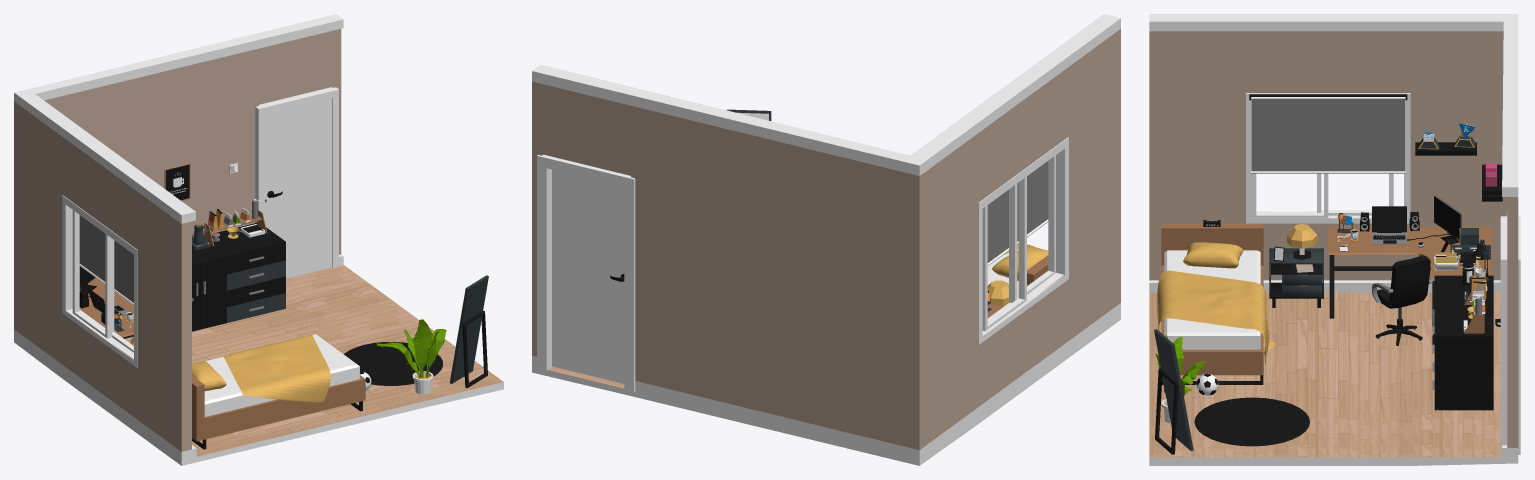
Rendered from Portfolio.glb.
3 views of the same model, side by side, from view 1: azimuth 30°, elevation 25°; view 2: azimuth 150°, elevation 25°; view 3: azimuth 270°, elevation 25° (orthographic). The views are drawn at different scales.
Parts seen in each view (by area): view 1: Room, Door, PC; view 2: Room, Door; view 3: Room, Chair, PC, Lamp02, Basket, Football Ball.
Boxes of the visible parts, x1,y1,x2,y2 form: Room: (14, 14, 503, 465); Door: (265, 98, 331, 278); PC: (79, 266, 127, 315); Room: (532, 14, 1120, 465); Door: (552, 169, 624, 383); Room: (1149, 14, 1520, 465); Chair: (1372, 255, 1431, 345); PC: (1372, 195, 1461, 244); Lamp02: (1287, 224, 1317, 259); Basket: (1434, 252, 1458, 270); Football Ball: (1196, 373, 1218, 396).
Bounding box in the file's own units: 4.01 × 3 × 3.62.
Materials: 20 (6 with a texture image).
